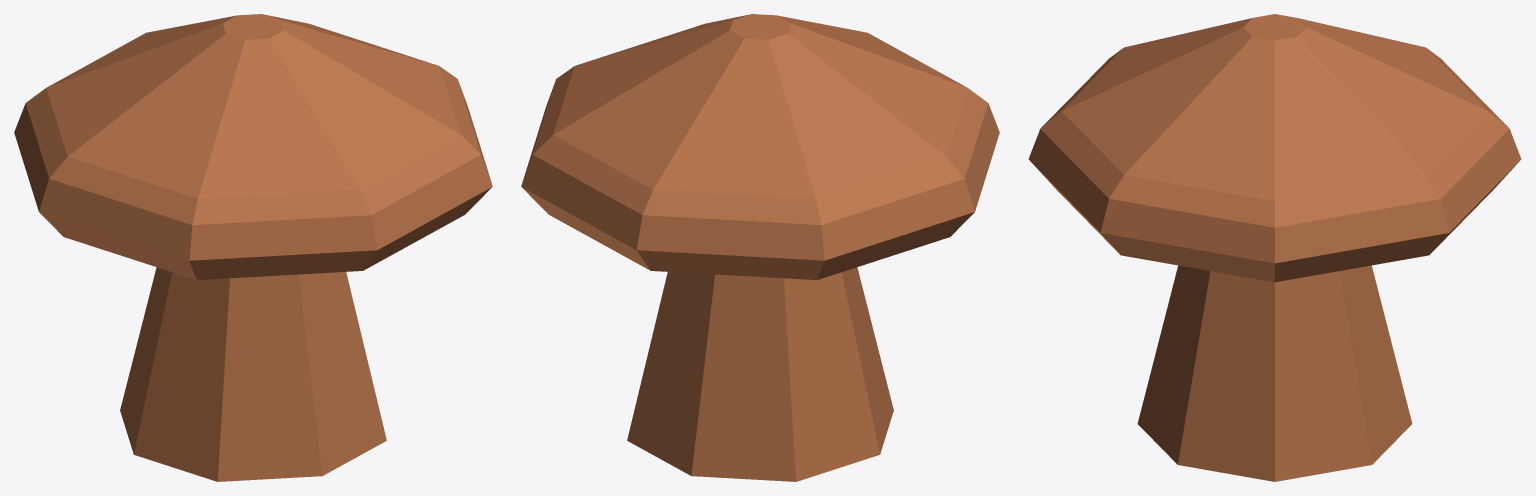
The model's file is bottle stopper.fbx.
3 views of the same model, side by side, from view 1: azimuth 30°, elevation 25°; view 2: azimuth 150°, elevation 25°; view 3: azimuth 270°, elevation 25° (orthographic).
Visible parts, largest first — view 1: korek; view 2: korek; view 3: korek.
Boxes of the visible parts, bbox=[...] form: korek: bbox=[14, 14, 492, 481]; korek: bbox=[521, 14, 999, 481]; korek: bbox=[1028, 14, 1521, 481].
Bounding box in the file's own units: 3.62 × 3.22 × 3.62.
